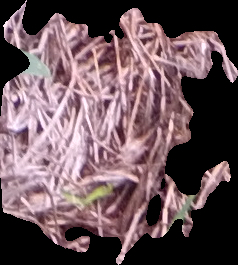soil: (1, 1, 238, 264)
